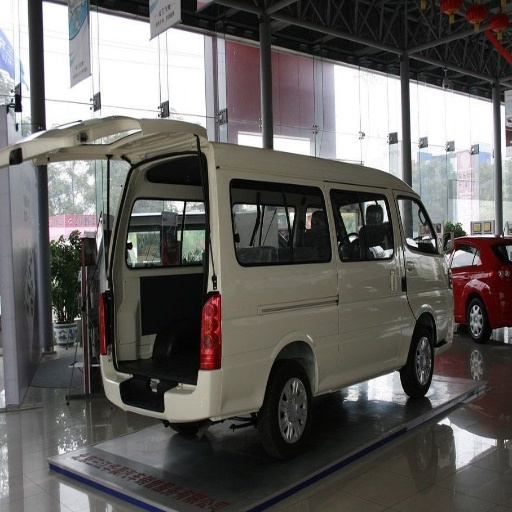back_right_door: (262, 186, 319, 233)
trunk: (216, 266, 448, 410), (152, 273, 199, 380)
